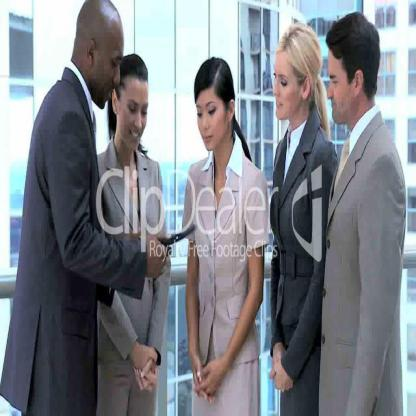face: (97, 14, 124, 109), (328, 46, 357, 127), (119, 78, 149, 150), (275, 50, 303, 117), (198, 89, 227, 150)
